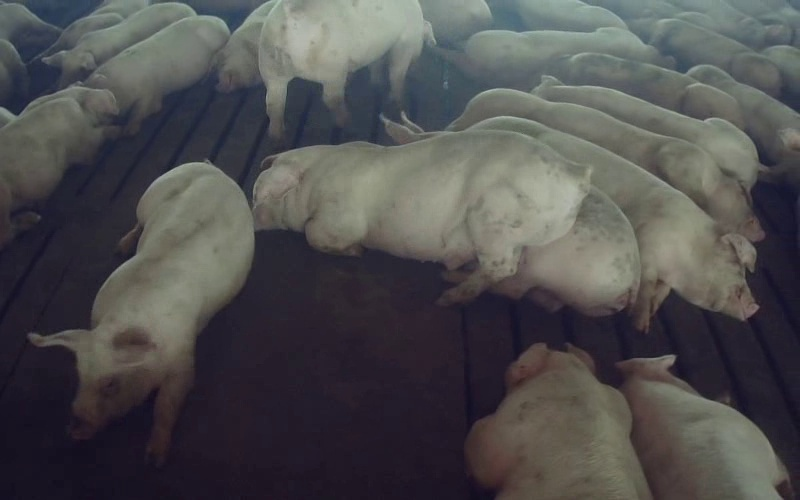pig: (28, 163, 252, 465), (470, 116, 756, 328), (253, 131, 589, 302), (448, 89, 763, 240), (465, 343, 650, 499), (532, 76, 760, 192), (617, 355, 789, 499), (259, 0, 434, 141), (0, 86, 119, 248), (85, 16, 229, 134), (435, 27, 673, 89), (688, 65, 799, 188), (42, 2, 195, 88), (627, 18, 781, 97)
